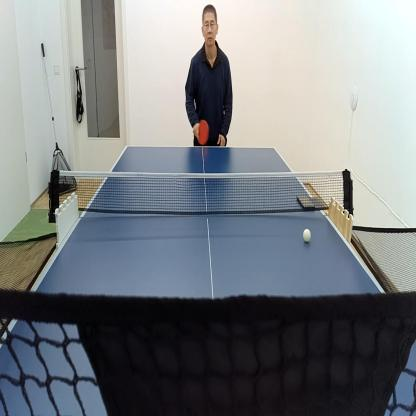Ball: (302, 226, 312, 245)
